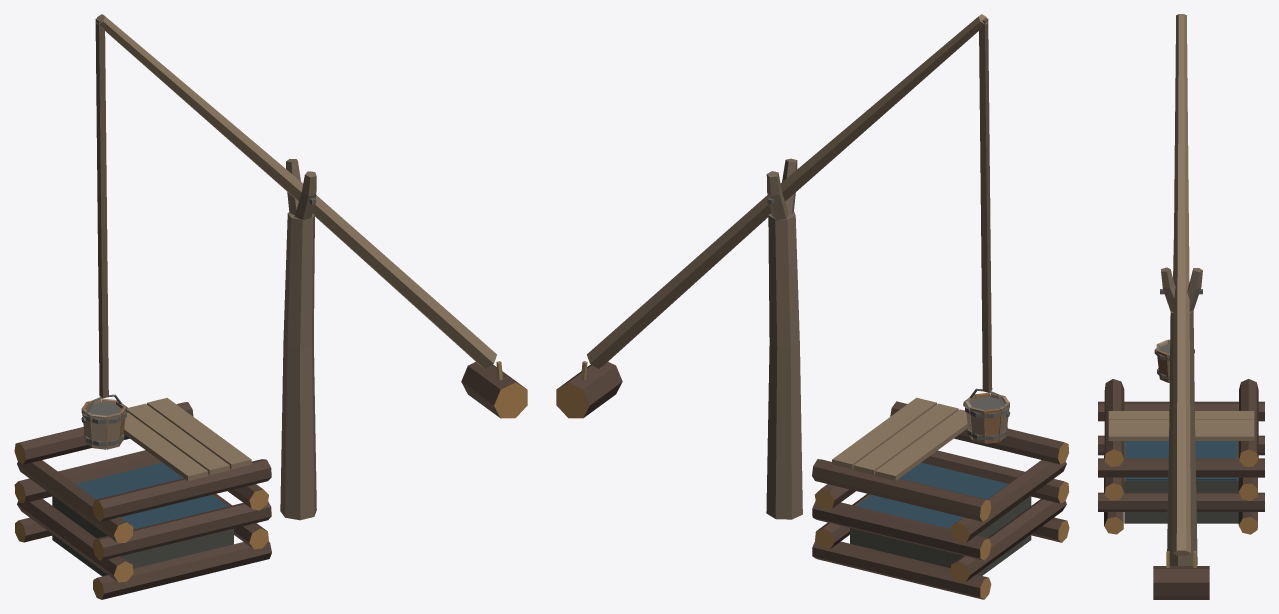
File: well_sweep.glb
The picture shows the model from 3 angles, left to right: view 1: azimuth 30°, elevation 25°; view 2: azimuth 150°, elevation 25°; view 3: azimuth 270°, elevation 25°; orthographic projection. The views are drawn at different scales.
Parts seen in each view (by area): view 1: Well_Sweep; view 2: Well_Sweep; view 3: Well_Sweep.
Boxes of the visible parts, x1,y1,x2,y2 form: Well_Sweep: (14, 14, 527, 599); Well_Sweep: (556, 14, 1069, 599); Well_Sweep: (1098, 14, 1264, 599).
Size of the model in its own units: 3.34 by 3.85 by 1.24.
